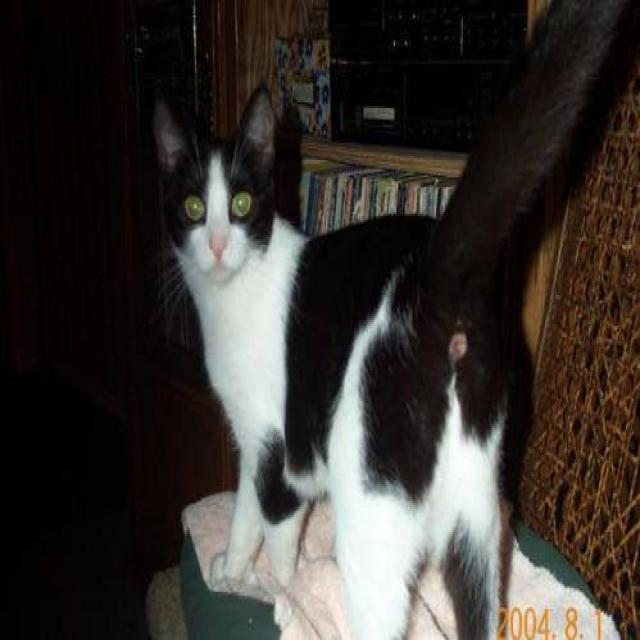cat: (150, 0, 639, 638)
